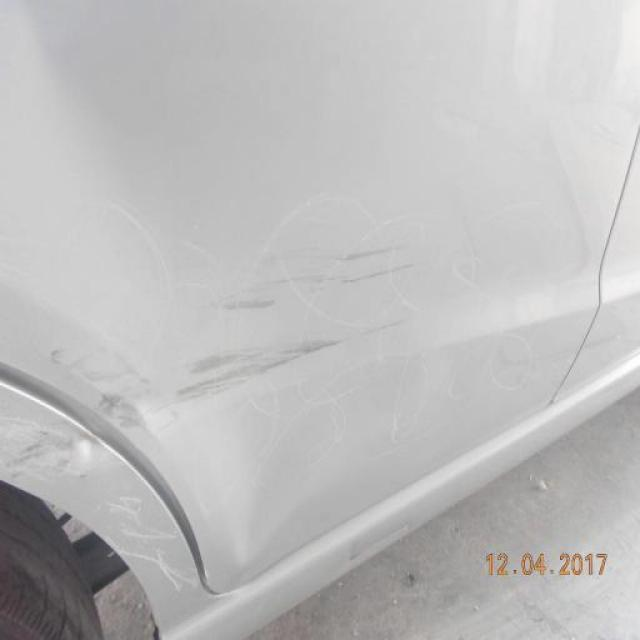car damage: (45, 306, 408, 427), (192, 374, 374, 561), (220, 236, 422, 309), (5, 409, 114, 494)
